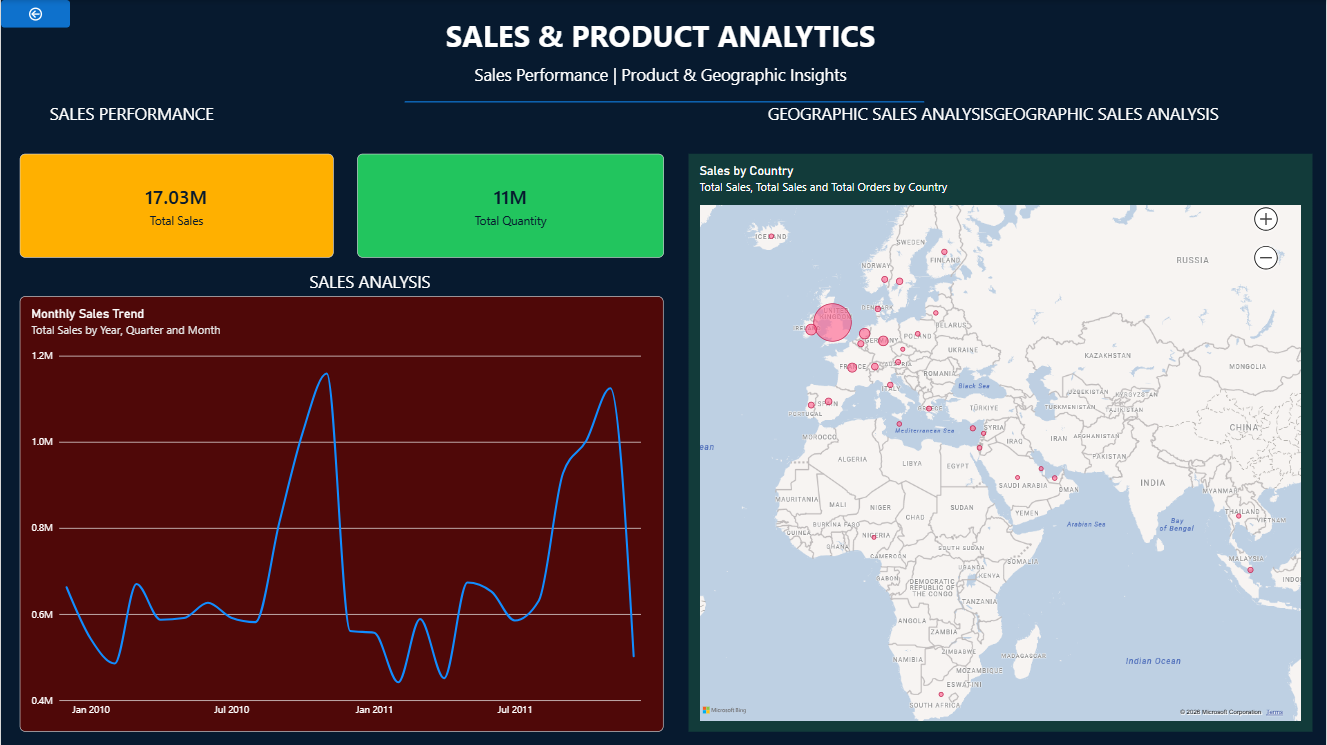

This screenshot's page, from the dashboard's own definition file:
{"tool":"powerbi","page":{"name":"Sales & Product Analytics","canvas":[1920,1080],"ordinal":3},"visuals":[{"type":"textbox","box":[10,22,1888,70],"z":0},{"type":"textbox","box":[10,92,1888,56],"z":1000},{"type":"shape","box":[584,72,752,150],"z":2000},{"type":"textbox","box":[28,148,324,50],"z":3000},{"type":"card","fields":{"Values":["Sales.Total Sales"]},"box":[28,222,454,150],"z":4000},{"type":"card","fields":{"Values":["Sales.Total Quantity"]},"box":[516,222,444,150],"z":5000},{"type":"textbox","box":[28,390,1014,74],"z":6000},{"type":"textbox","box":[976,148,922,74],"z":7000},{"type":"lineChart","title":"Monthly Sales Trend","fields":{"Y":["Sales.Total Sales"],"Category":["Sales.InvoiceDate.Variation.Date Hierarchy.Year","Sales.InvoiceDate.Variation.Date Hierarchy.Quarter","Sales.InvoiceDate.Variation.Date Hierarchy.Month"]},"box":[28,428,932,630],"z":8000},{"type":"map","title":"Sales by Country","fields":{"Category":["Sales.Country"],"Size":["Sales.Total Sales"]},"box":[996,222,902,836],"z":9000},{"type":"actionButton","box":[0,0,100,40],"z":10000}]}

Visuals, with their boxes in screenshot pixels (x1, y1, x2, y2), scaled from the page's 1920x1080 canvas onto the 1327x745 screenshot:
textbox: l=7, t=15, r=1312, b=63
textbox: l=7, t=63, r=1312, b=102
shape: l=404, t=50, r=923, b=153
textbox: l=19, t=102, r=243, b=137
card - Sales.Total Sales: l=19, t=153, r=333, b=257
card - Sales.Total Quantity: l=357, t=153, r=664, b=257
textbox: l=19, t=269, r=720, b=320
textbox: l=675, t=102, r=1312, b=153
"Monthly Sales Trend" lineChart: l=19, t=295, r=664, b=730
"Sales by Country" map: l=688, t=153, r=1312, b=730
actionButton: l=0, t=0, r=69, b=28
